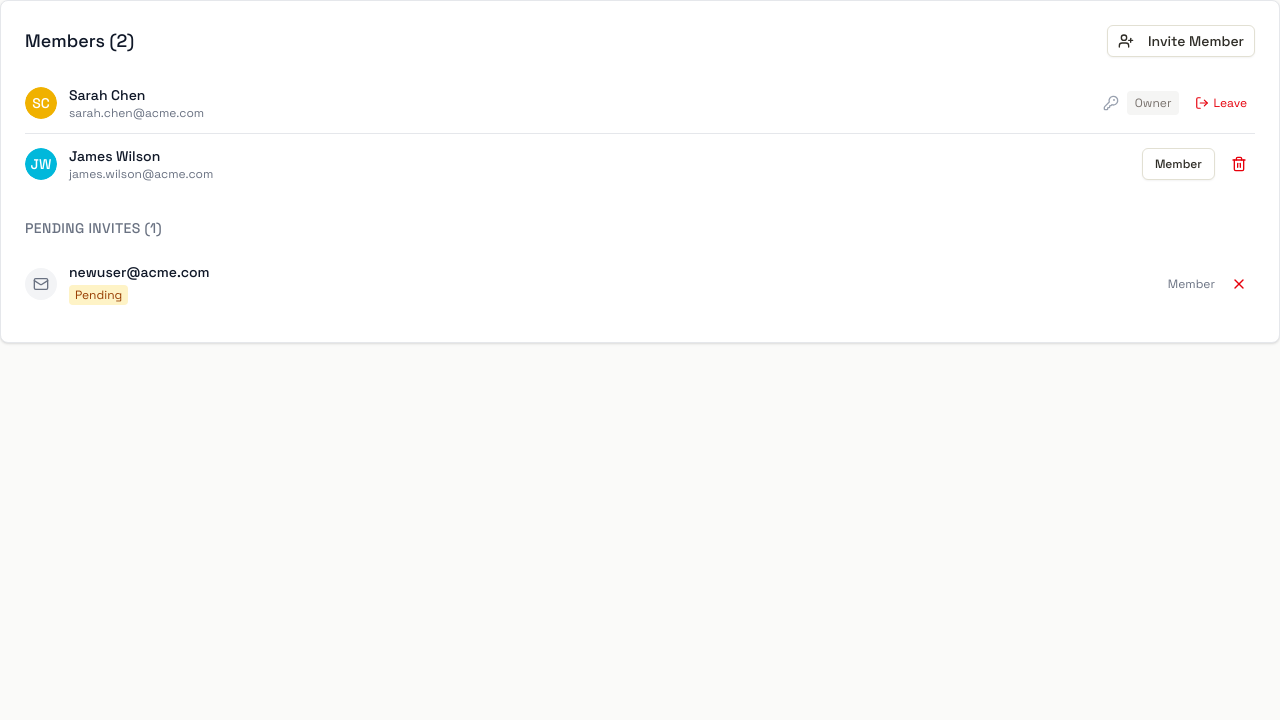
Test: MemberManagement › opens remove member dialog
Expected: the text "James Wilson" is shown, [69,147,160,165]
Click the button titled "Remove member".
click(1239, 164)  # box [1223,148,1255,180]
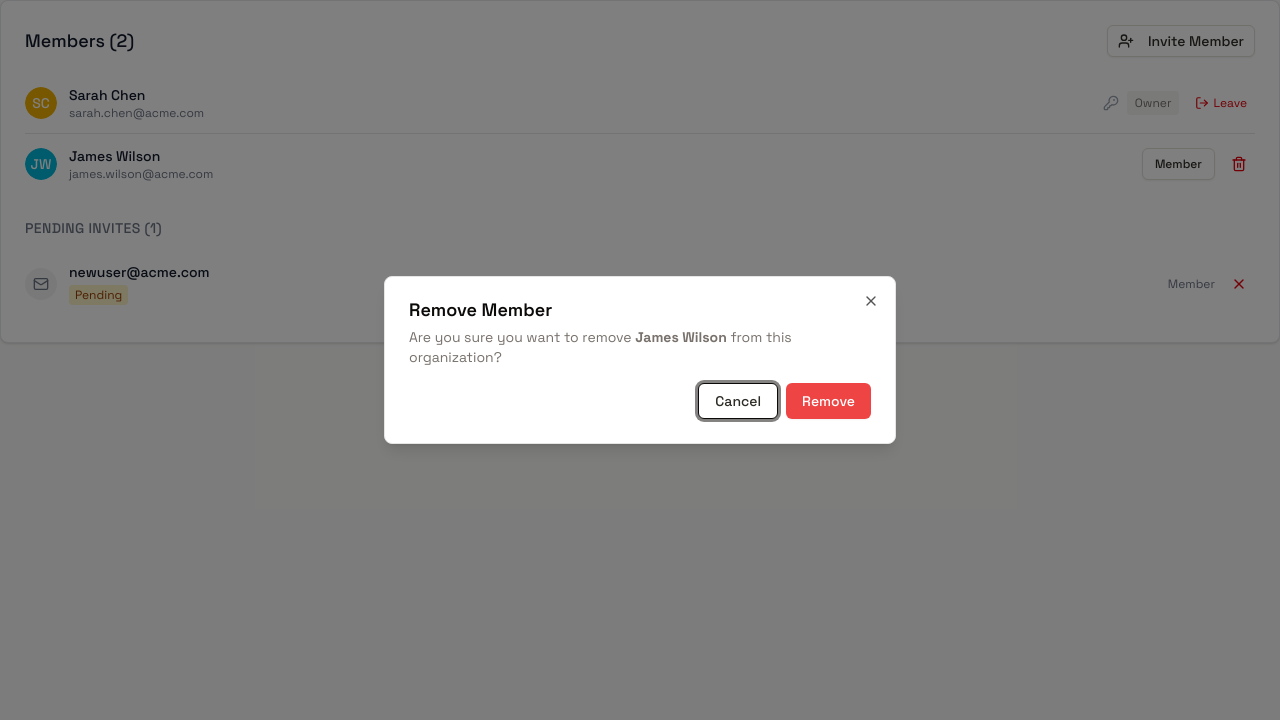
Expected: the heading "Remove Member" is shown, [409,298,552,321]
Expected: the text "James Wilson" is shown, [635,328,727,346]
